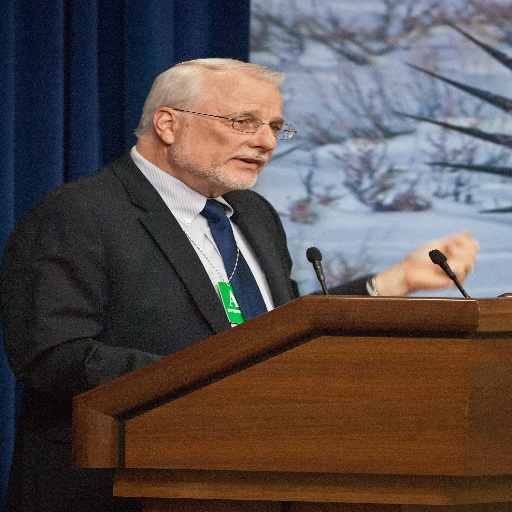hand: (353, 236, 478, 301)
